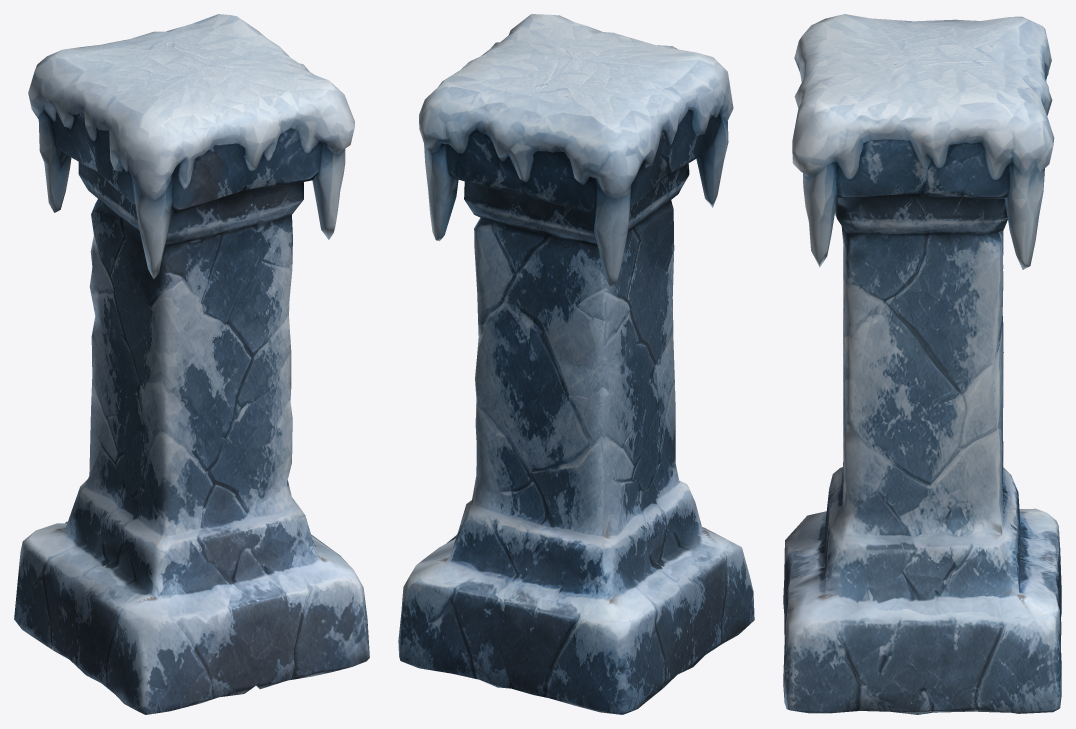
Rendered from Tile_Ice_Pillar.fbx.
The picture shows the model from 3 angles, left to right: view 1: azimuth 30°, elevation 25°; view 2: azimuth 150°, elevation 25°; view 3: azimuth 270°, elevation 25°; orthographic projection. The views are drawn at different scales.
Parts seen in each view (by area): view 1: texture_mapping; view 2: texture_mapping; view 3: texture_mapping.
Boxes of the visible parts, x1=… form: texture_mapping: x1=14, y1=14, x2=369, y2=714; texture_mapping: x1=398, y1=14, x2=754, y2=714; texture_mapping: x1=783, y1=14, x2=1061, y2=714.
Bounding box in the file's own units: 0.4203 × 0.4199 × 1.
1 material, 1 textured.
